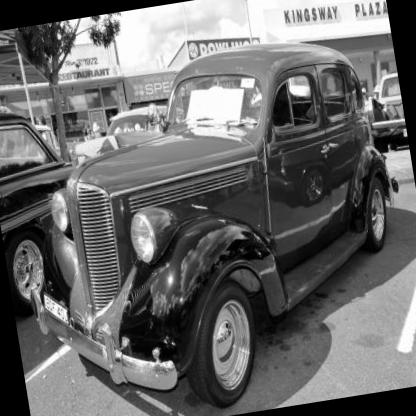car: (7, 1, 416, 416)
